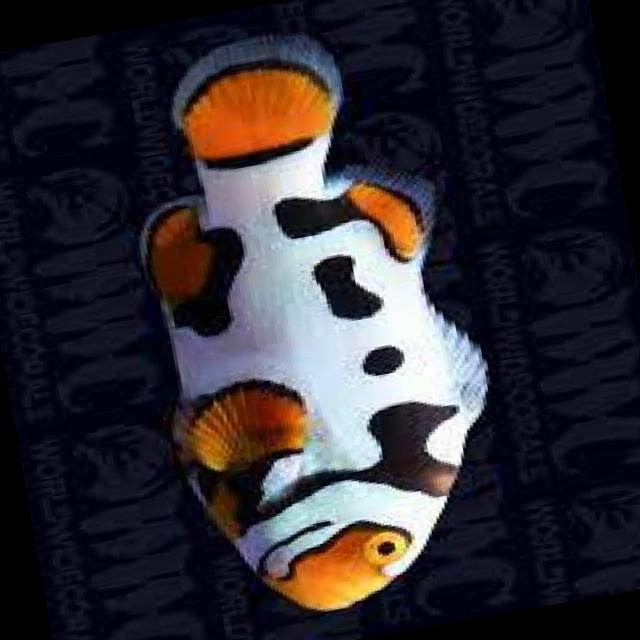ClownFish: (104, 3, 525, 629)
